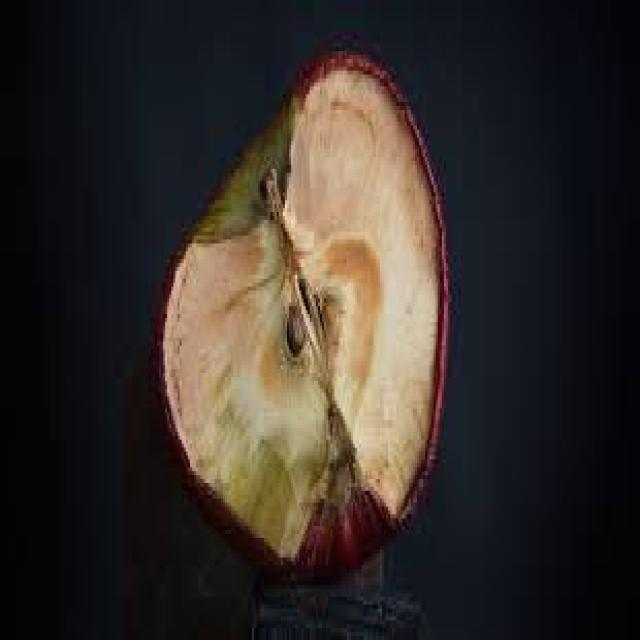maca: (157, 47, 450, 573)
